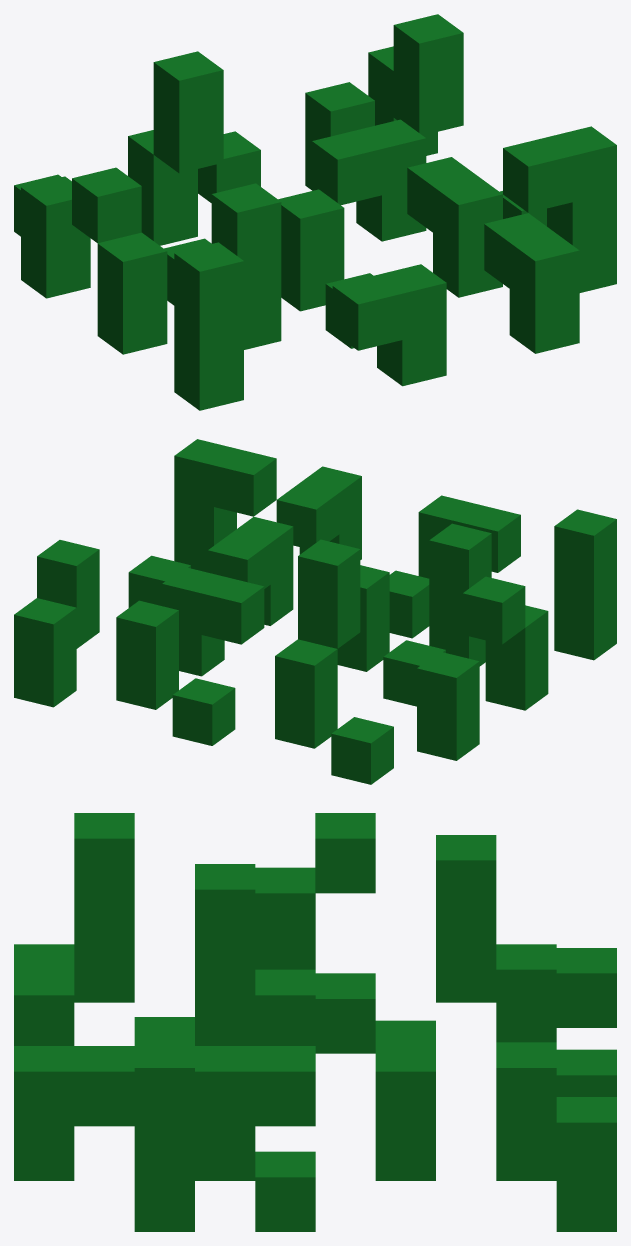
File: grass3.dae
3 views of the same model, one above another, from view 1: azimuth 30°, elevation 25°; view 2: azimuth 150°, elevation 25°; view 3: azimuth 270°, elevation 25° (orthographic). The views are drawn at different scales.
Visible parts, largest first — view 1: PlaneCOL; view 2: PlaneCOL; view 3: PlaneCOL.
Part boxes in pixels (box(x1,y1,x2,y2)): PlaneCOL: box(14, 14, 616, 410); PlaneCOL: box(14, 439, 616, 784); PlaneCOL: box(14, 813, 616, 1231).
Bounding box in the file's own units: 1 × 1 × 0.4.
